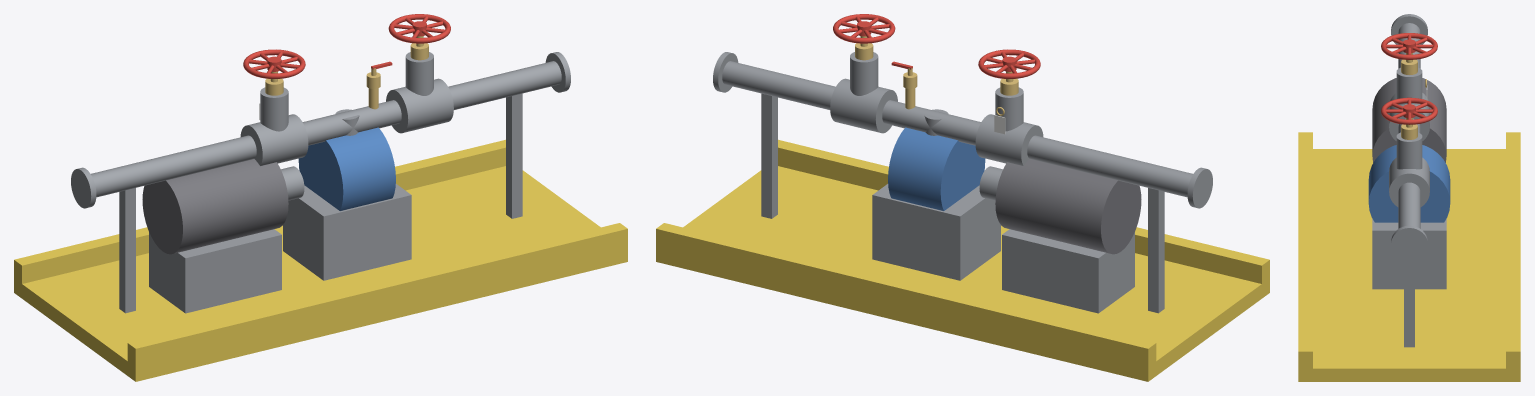
The model's file is skid.glb.
3 views of the same model, side by side, from view 1: azimuth 30°, elevation 25°; view 2: azimuth 150°, elevation 25°; view 3: azimuth 270°, elevation 25° (orthographic). The views are drawn at different scales.
Visible parts, largest first — view 1: base_plate, rail_back, motor_body, pump_pedestal, motor_feet, rail_front, pump_volute, pipe_left, pipe_right, outlet_valve_body, pipe_mid, inlet_valve_body (+9 smaller); view 2: base_plate, rail_front, motor_body, pump_pedestal, motor_feet, rail_back, pump_volute, pipe_left, pipe_right, outlet_valve_body, pipe_mid, inlet_valve_body (+9 smaller); view 3: base_plate, pump_pedestal, rail_back, rail_front, pump_volute, motor_body, valve_inlet, valve_outlet, outlet_valve_body, flange_out, pipe_right, support_right (+7 smaller).
Boxes of the visible parts, x1=… form: base_plate: x1=14, y1=166, x2=627, y2=381; rail_back: x1=127, y1=223, x2=627, y2=366; motor_body: x1=142, y1=159, x2=288, y2=254; pump_pedestal: x1=283, y1=184, x2=411, y2=280; motor_feet: x1=149, y1=229, x2=281, y2=313; rail_front: x1=14, y1=139, x2=505, y2=283; pump_volute: x1=298, y1=127, x2=395, y2=210; pipe_left: x1=91, y1=135, x2=256, y2=197; pipe_right: x1=448, y1=61, x2=561, y2=109; outlet_valve_body: x1=386, y1=78, x2=453, y2=133; pipe_mid: x1=302, y1=100, x2=401, y2=145; inlet_valve_body: x1=240, y1=114, x2=308, y2=165; base_plate: x1=656, y1=166, x2=1269, y2=381; rail_front: x1=656, y1=223, x2=1156, y2=366; motor_body: x1=995, y1=159, x2=1141, y2=254; pump_pedestal: x1=872, y1=184, x2=1000, y2=280; motor_feet: x1=1002, y1=229, x2=1134, y2=313; rail_back: x1=778, y1=139, x2=1269, y2=283; pump_volute: x1=888, y1=127, x2=985, y2=210; pipe_left: x1=1027, y1=135, x2=1192, y2=197; pipe_right: x1=722, y1=61, x2=835, y2=109; outlet_valve_body: x1=830, y1=78, x2=897, y2=133; pipe_mid: x1=882, y1=100, x2=981, y2=145; inlet_valve_body: x1=975, y1=114, x2=1043, y2=165; base_plate: x1=1298, y1=149, x2=1520, y2=381; pump_pedestal: x1=1372, y1=219, x2=1446, y2=289; rail_back: x1=1298, y1=132, x2=1312, y2=368; rail_front: x1=1506, y1=132, x2=1520, y2=368; pump_volute: x1=1368, y1=145, x2=1450, y2=222; motor_body: x1=1372, y1=78, x2=1446, y2=162; valve_inlet: x1=1381, y1=33, x2=1437, y2=62; valve_outlet: x1=1381, y1=97, x2=1437, y2=127; outlet_valve_body: x1=1389, y1=157, x2=1429, y2=206; flange_out: x1=1391, y1=225, x2=1427, y2=261; pipe_right: x1=1398, y1=182, x2=1420, y2=228; support_right: x1=1404, y1=261, x2=1414, y2=347.
Bounding box in the file's own units: 2.8 × 1.25 × 1.2.
